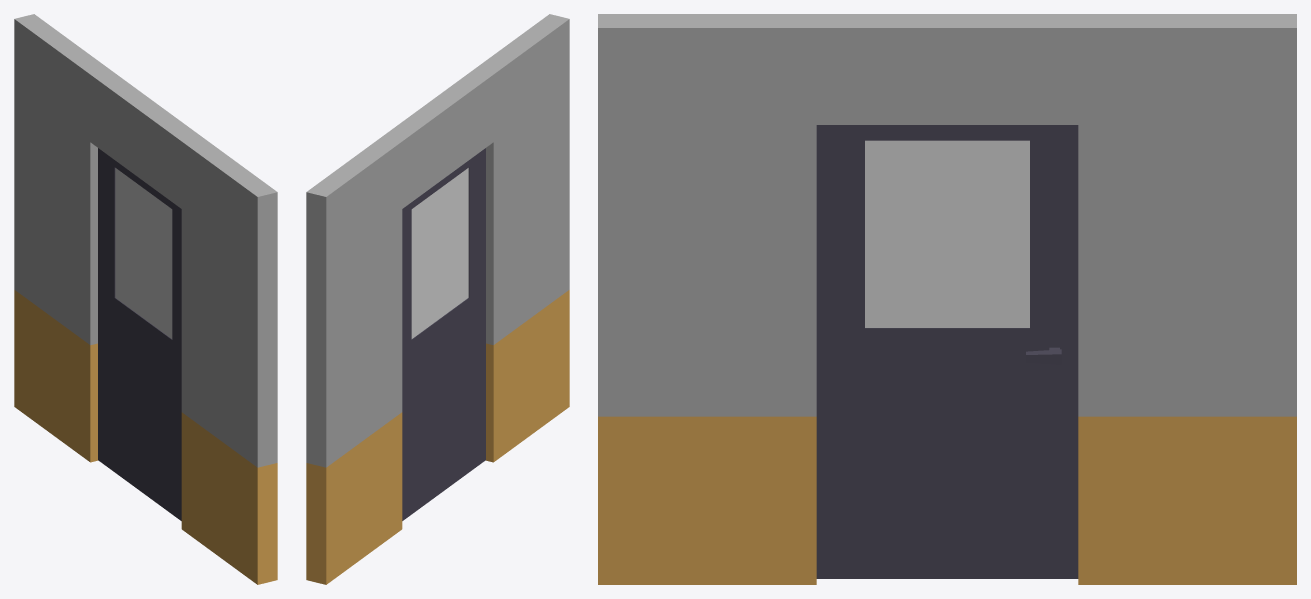
The model's file is Wall_WithDoor.fbx.
The picture shows the model from 3 angles, left to right: view 1: azimuth 30°, elevation 25°; view 2: azimuth 150°, elevation 25°; view 3: azimuth 270°, elevation 25°; orthographic projection. The views are drawn at different scales.
Visible parts, largest first — view 1: Wall_WithDoor, Dooe; view 2: Wall_WithDoor, Dooe; view 3: Wall_WithDoor, Dooe.
Part boxes in pixels (bbox=[...]): Wall_WithDoor: bbox=[14, 14, 277, 584]; Dooe: bbox=[98, 148, 181, 520]; Wall_WithDoor: bbox=[306, 14, 569, 584]; Dooe: bbox=[402, 148, 485, 520]; Wall_WithDoor: bbox=[598, 14, 1296, 584]; Dooe: bbox=[816, 125, 1078, 578].
Size of the model in its own units: 43.15 by 703 by 800.
